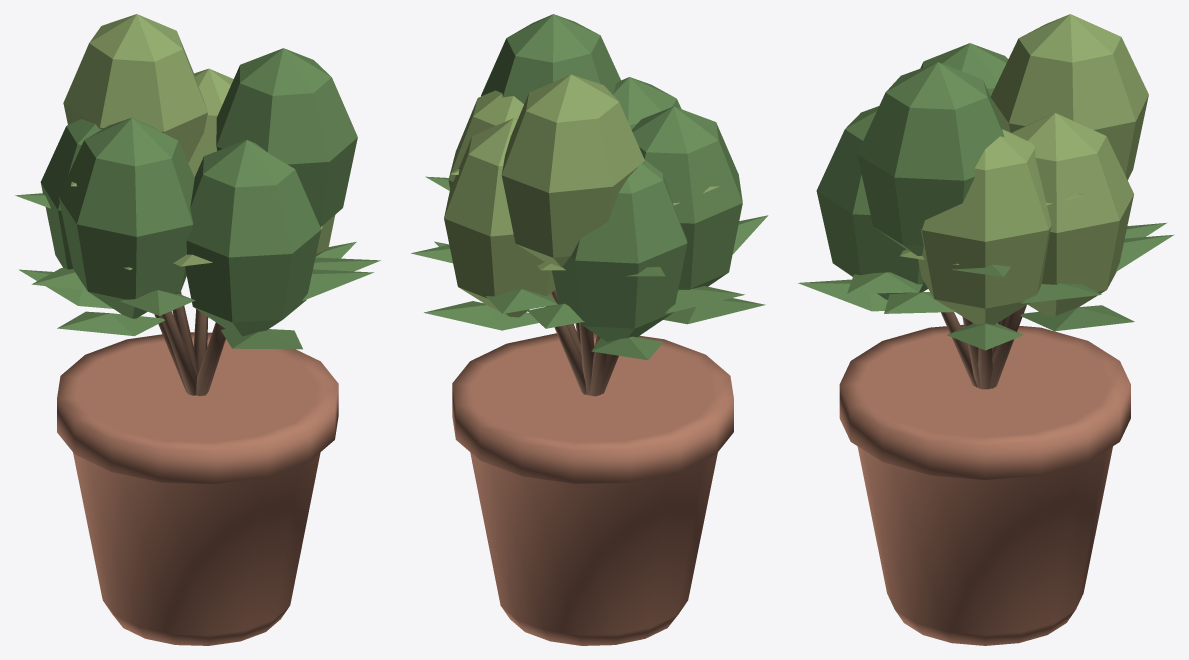
Rendered from SM_Cafe_PottedPlant.fbx.
3 views of the same model, side by side, from view 1: azimuth 30°, elevation 25°; view 2: azimuth 150°, elevation 25°; view 3: azimuth 270°, elevation 25° (orthographic). The views are drawn at different scales.
Visible parts, largest first — view 1: SM_Cafe_PottedPlant; view 2: SM_Cafe_PottedPlant; view 3: SM_Cafe_PottedPlant.
Part boxes in pixels (box(x1,y1,x2,y2)): SM_Cafe_PottedPlant: box(15, 14, 380, 645); SM_Cafe_PottedPlant: box(411, 14, 768, 645); SM_Cafe_PottedPlant: box(798, 14, 1174, 645).
Bounding box in the file's own units: 0.5571 × 0.5568 × 0.9524.
